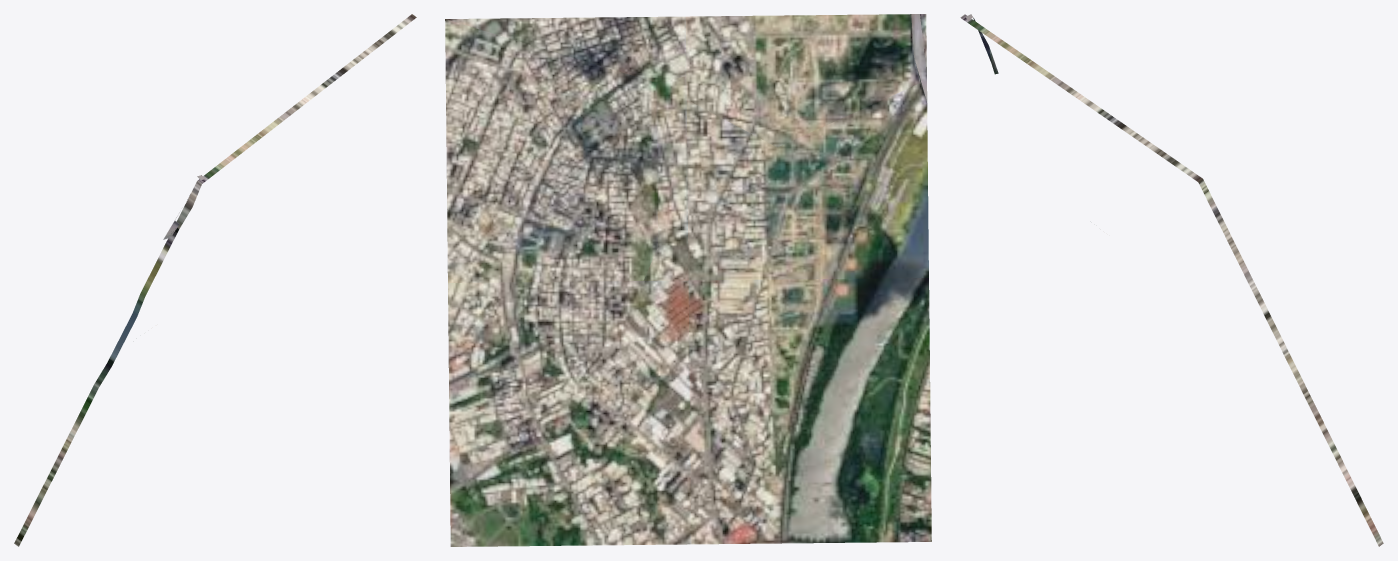
3 renders of one model, left to right at view 1: azimuth 30°, elevation 25°; view 2: azimuth 150°, elevation 25°; view 3: azimuth 270°, elevation 25°, orthographic. The views are drawn at different scales.
Size of the model in its own units: 2445 by 2228 by 2060.
Materials: 1 (1 with a texture image).
